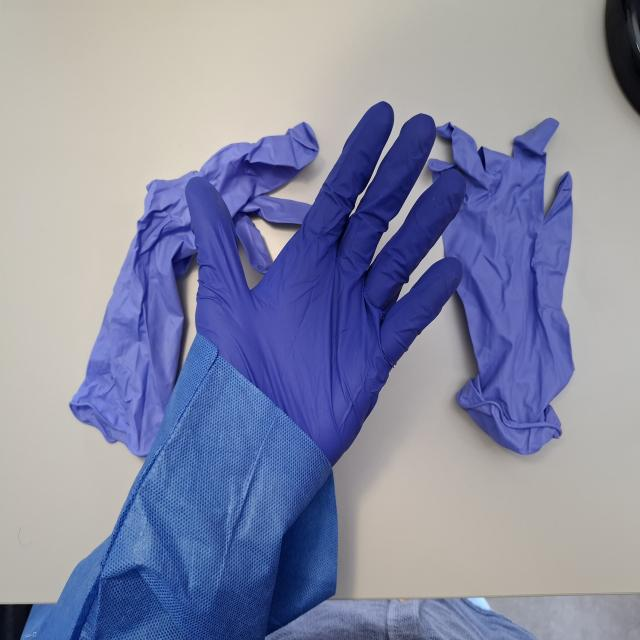glove_on: (181, 99, 468, 472)
